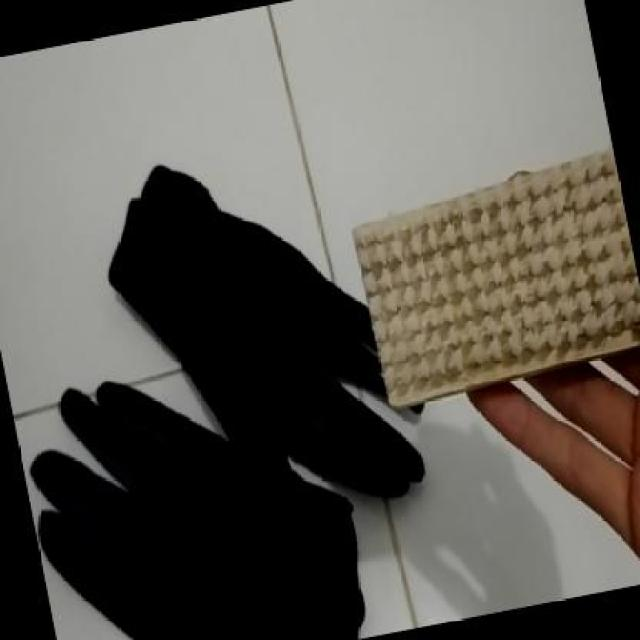gloves: (82, 113, 429, 541), (12, 338, 376, 638)
